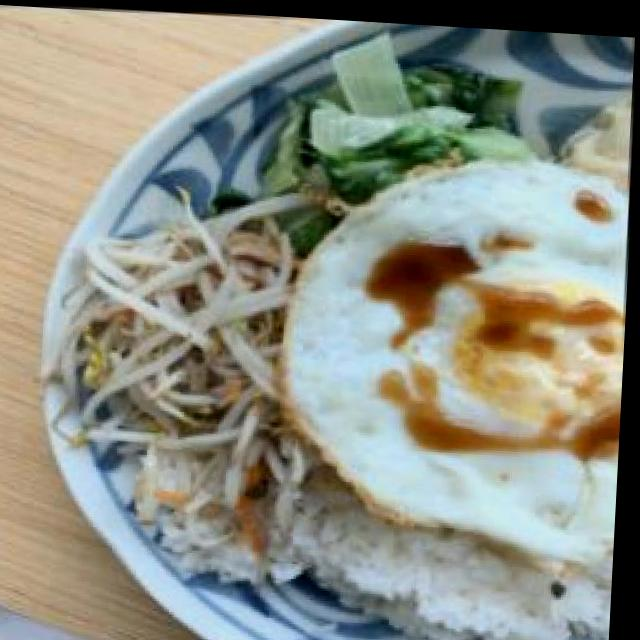fried_eggs: (280, 139, 635, 568)
mung_bean_sprouts: (87, 230, 294, 444)
rice: (341, 527, 559, 627)
